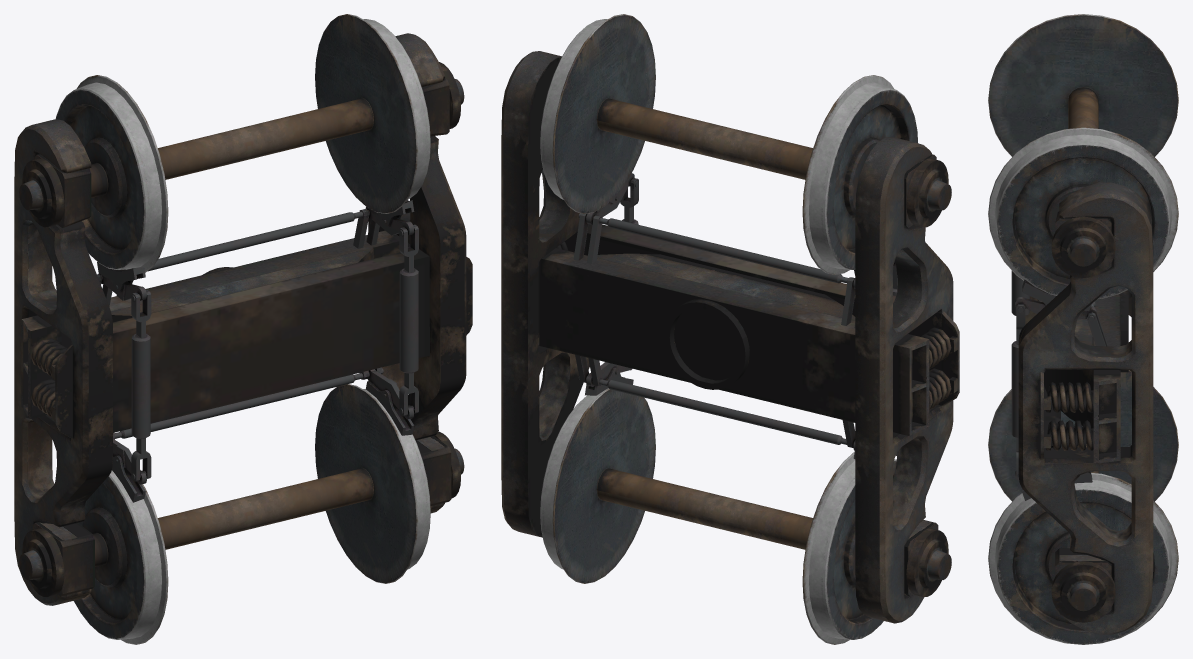
File: Bogie.fbx
3 renders of one model, left to right at view 1: azimuth 30°, elevation 25°; view 2: azimuth 150°, elevation 25°; view 3: azimuth 270°, elevation 25°, orthographic. The views are drawn at different scales.
Parts seen in each view (by area): view 1: LOD0; view 2: LOD0; view 3: LOD0.
Part boxes in pixels (x1=…): LOD0: x1=14, y1=14, x2=472, y2=644; LOD0: x1=501, y1=14, x2=959, y2=644; LOD0: x1=988, y1=14, x2=1178, y2=644.
Size of what is drawn, in the model's own units: 243 by 299 by 99.87.
